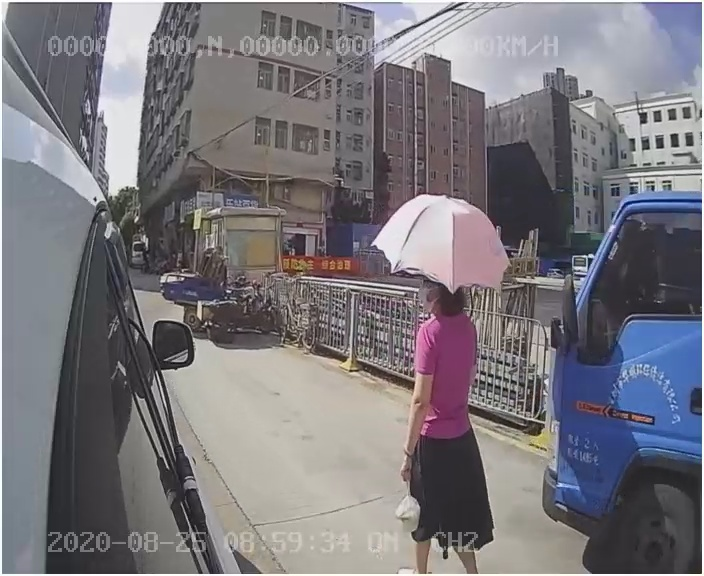person: (393, 282, 505, 548)
